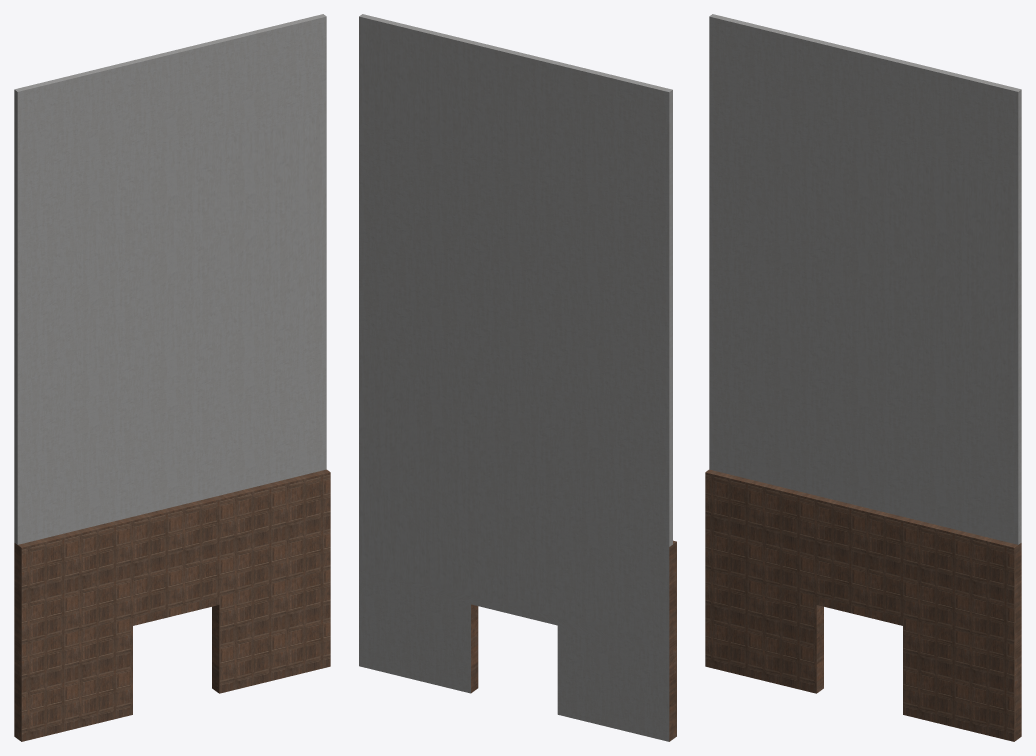
The model's file is Wall5x10Hole.fbx.
The picture shows the model from 3 angles, left to right: view 1: azimuth 30°, elevation 25°; view 2: azimuth 150°, elevation 25°; view 3: azimuth 330°, elevation 25°; orthographic projection.
Parts seen in each view (by area): view 1: Wall5x10; view 2: Wall5x10; view 3: Wall5x10.
Boxes of the visible parts, x1=… form: Wall5x10: x1=14, y1=14, x2=330, y2=741; Wall5x10: x1=359, y1=14, x2=676, y2=741; Wall5x10: x1=705, y1=14, x2=1021, y2=741.
Size of the model in its own units: 500 by 1000 by 21.
1 material, 1 textured.
